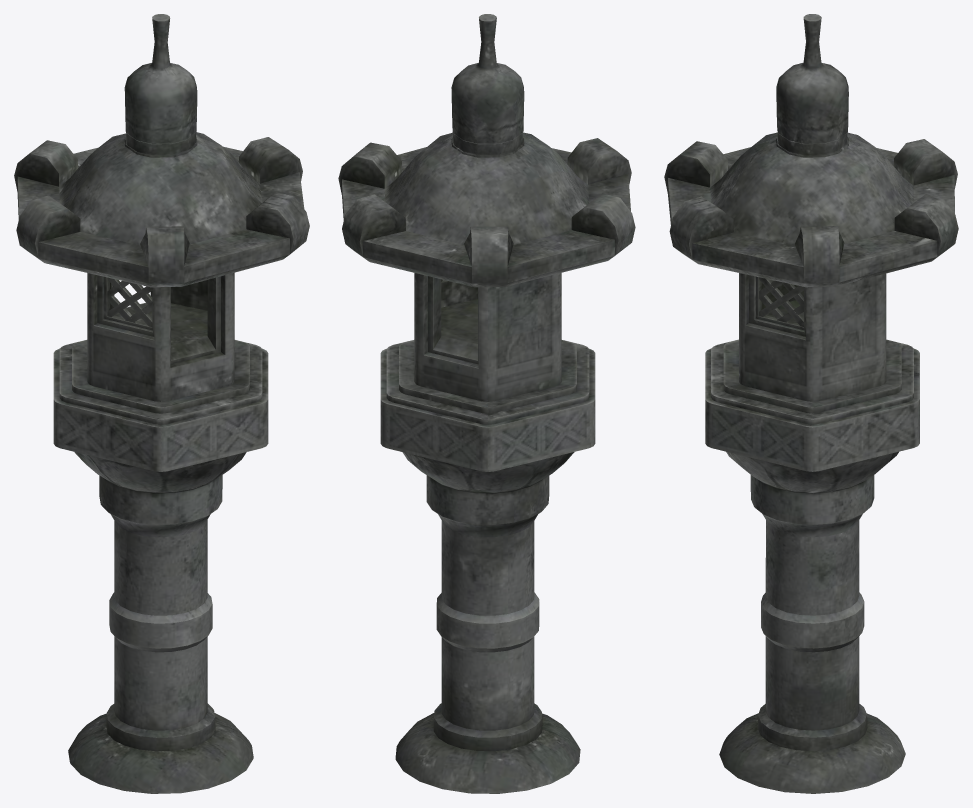
Rendered from japanese_stone_toro_lantern_7e42122d.glb.
3 renders of one model, left to right at view 1: azimuth 30°, elevation 25°; view 2: azimuth 150°, elevation 25°; view 3: azimuth 270°, elevation 25°, orthographic.
Parts seen in each view (by area): view 1: japanese_stone_toro_lantern_7e42122d; view 2: japanese_stone_toro_lantern_7e42122d; view 3: japanese_stone_toro_lantern_7e42122d.
Part boxes in pixels (bbox=[...]): japanese_stone_toro_lantern_7e42122d: bbox=[14, 14, 309, 793]; japanese_stone_toro_lantern_7e42122d: bbox=[338, 14, 635, 793]; japanese_stone_toro_lantern_7e42122d: bbox=[664, 14, 958, 793].
Bounding box in the file's own units: 0.9571 × 2.45 × 0.8862.
Materials: 1 (1 with a texture image).
